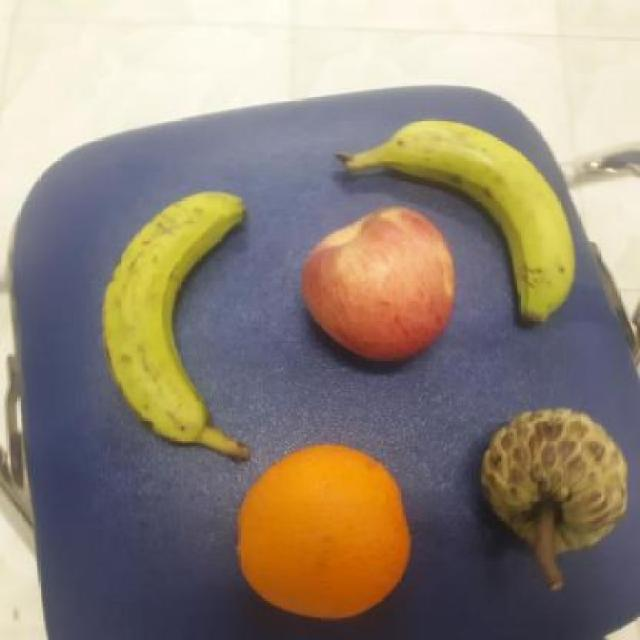apple: (295, 201, 456, 367)
banana: (90, 182, 262, 441), (394, 110, 580, 321)
oren: (236, 445, 412, 620)
sugar apple: (476, 404, 630, 554)
